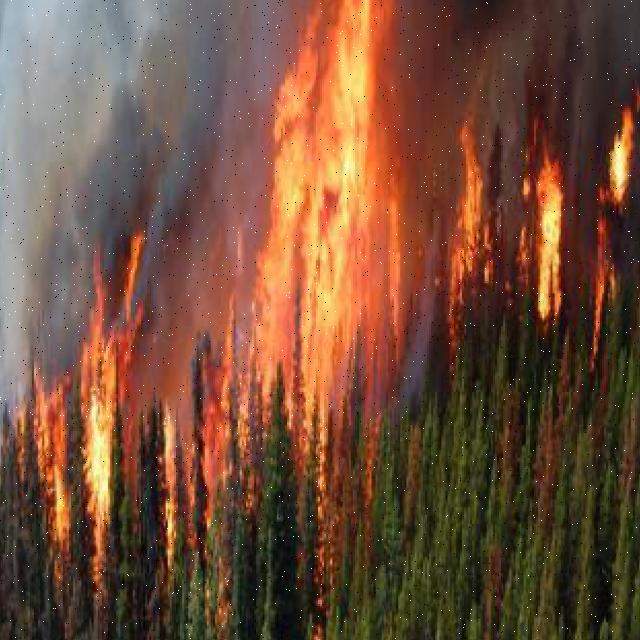fire: (252, 3, 402, 417), (7, 238, 139, 579), (160, 353, 250, 557), (591, 50, 640, 319), (446, 94, 501, 312), (522, 100, 565, 320)
smoke: (404, 196, 448, 444)
